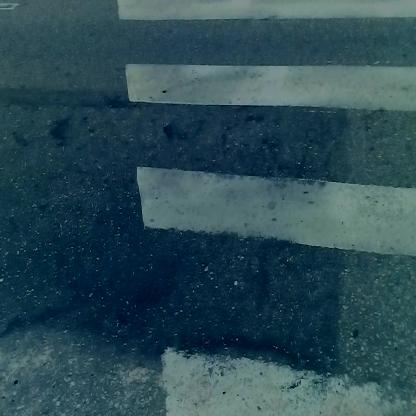crosswalk: (135, 3, 412, 399)
